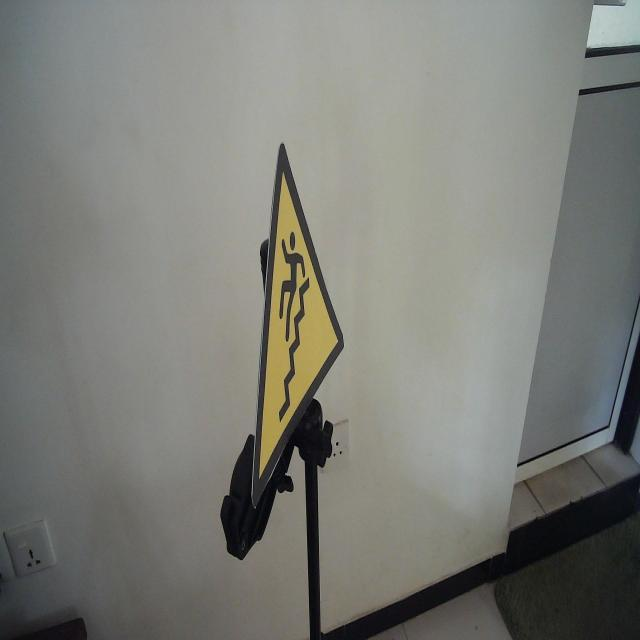stairs: (250, 140, 346, 512)
